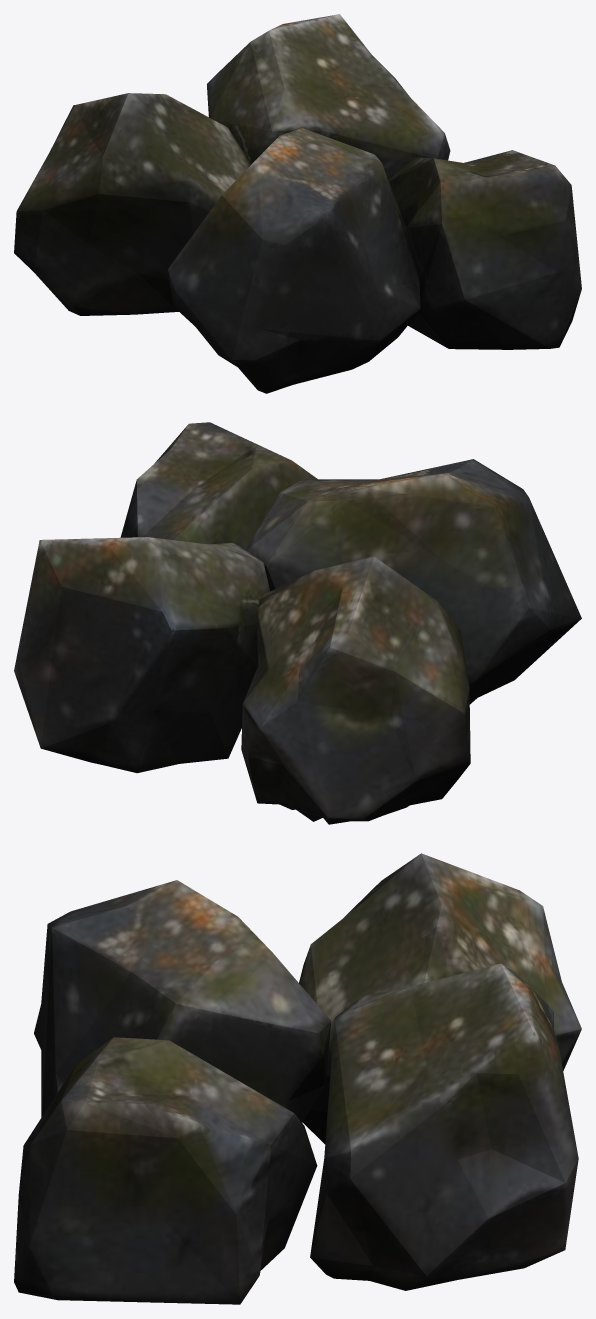
File: mossy_erratic_lod0.glb
3 renders of one model, top to bottom at view 1: azimuth 30°, elevation 25°; view 2: azimuth 150°, elevation 25°; view 3: azimuth 270°, elevation 25°, orthographic. The views are drawn at different scales.
Visible parts, largest first — view 1: mossy_erratic_lod0; view 2: mossy_erratic_lod0; view 3: mossy_erratic_lod0.
Part boxes in pixels (box(x1,y1,x2,y2)): mossy_erratic_lod0: box(14, 14, 581, 393); mossy_erratic_lod0: box(14, 422, 581, 824); mossy_erratic_lod0: box(14, 853, 581, 1304).
Bounding box in the file's own units: 1 × 0.4911 × 0.9465.
1 material, 1 textured.
